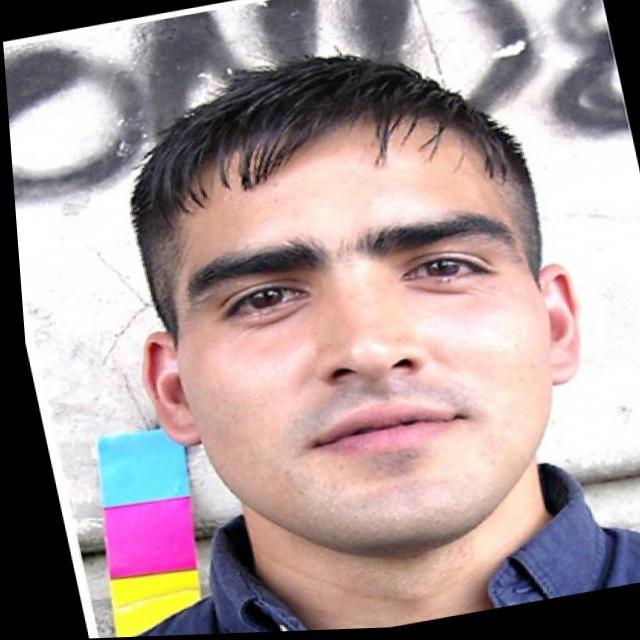Nonhelmet: (112, 50, 594, 556)
